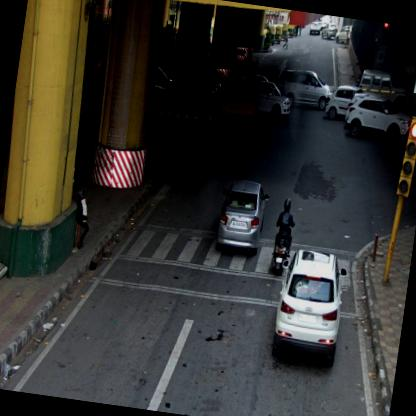car: (269, 246, 350, 368), (213, 176, 269, 258), (344, 93, 414, 146), (236, 76, 294, 122), (354, 67, 412, 110), (278, 68, 330, 111), (323, 80, 362, 122), (320, 20, 338, 41), (334, 25, 352, 46), (309, 18, 321, 36)
motorcycle: (270, 197, 300, 276)
